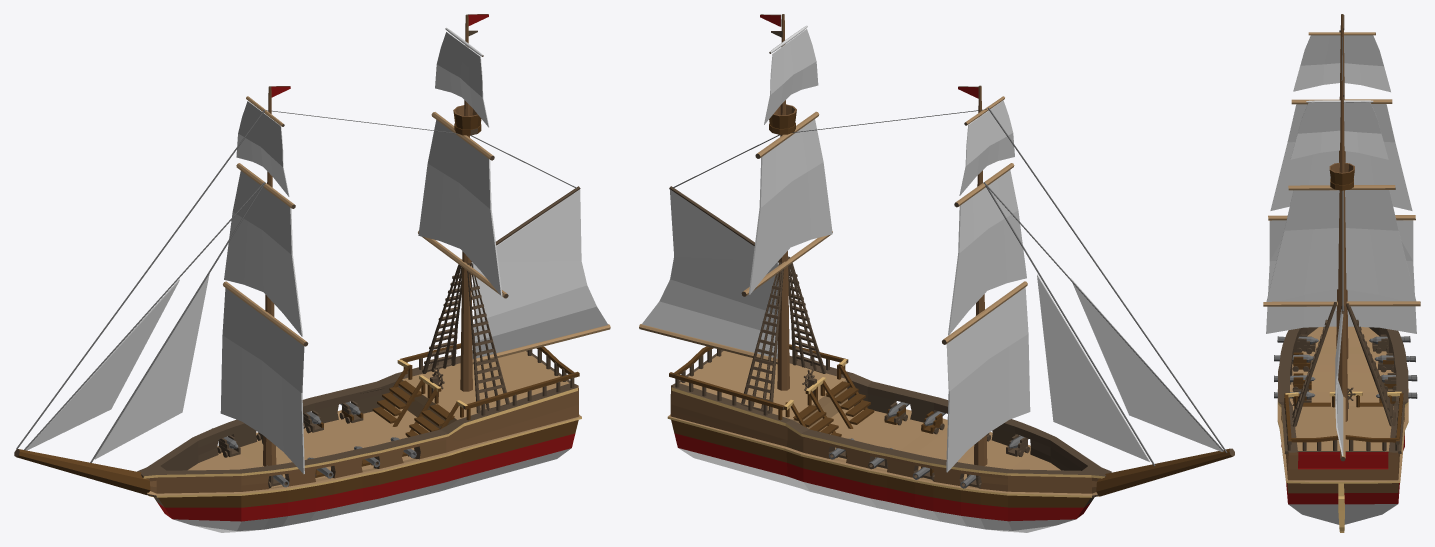
File: Brig_Red.fbx
The picture shows the model from 3 angles, left to right: view 1: azimuth 30°, elevation 25°; view 2: azimuth 150°, elevation 25°; view 3: azimuth 270°, elevation 25°; orthographic projection. The views are drawn at different scales.
Visible parts, largest first — view 1: Brig_Red; view 2: Brig_Red; view 3: Brig_Red.
Boxes of the visible parts, left/top/right/bottom form: Brig_Red: left=14, top=14, right=610, bottom=532; Brig_Red: left=639, top=14, right=1234, bottom=532; Brig_Red: left=1263, top=14, right=1420, bottom=532.
Size of the model in its own units: 34.9 by 25.77 by 8.81.
1 material, 1 textured.
